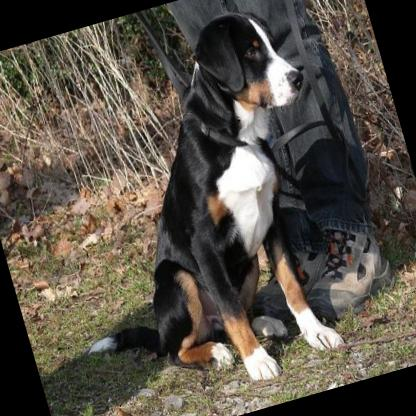Appenzeller: (6, 0, 380, 416)
